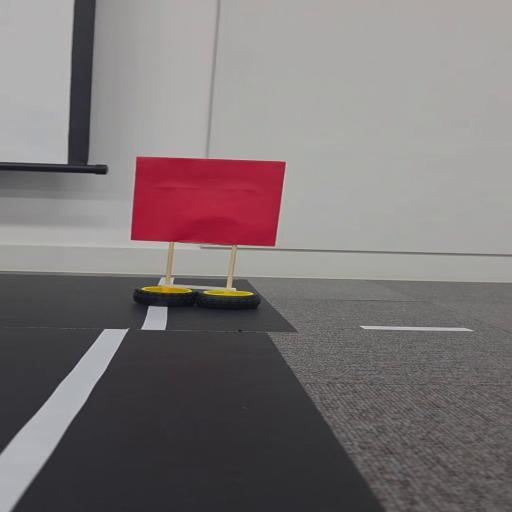Sign_A: (106, 152, 300, 314)
